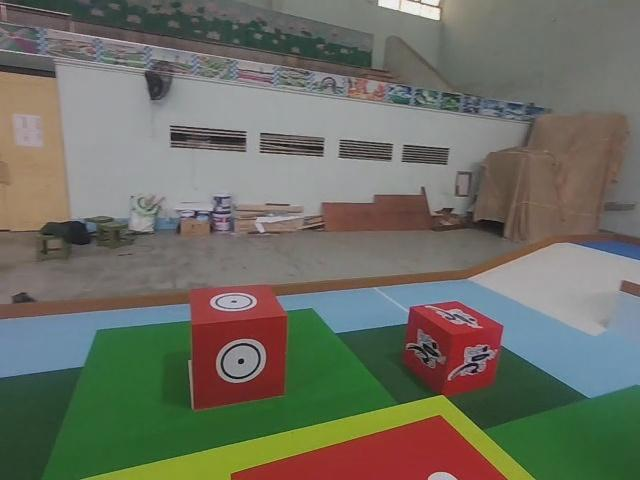R1: (399, 295, 506, 401)
R2 Real: (185, 280, 292, 415)
